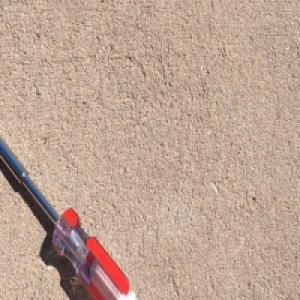Screwdriver: (0, 129, 138, 300)
